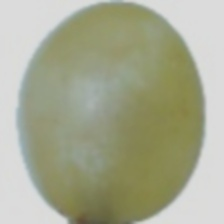grapes: (48, 42, 200, 181)
